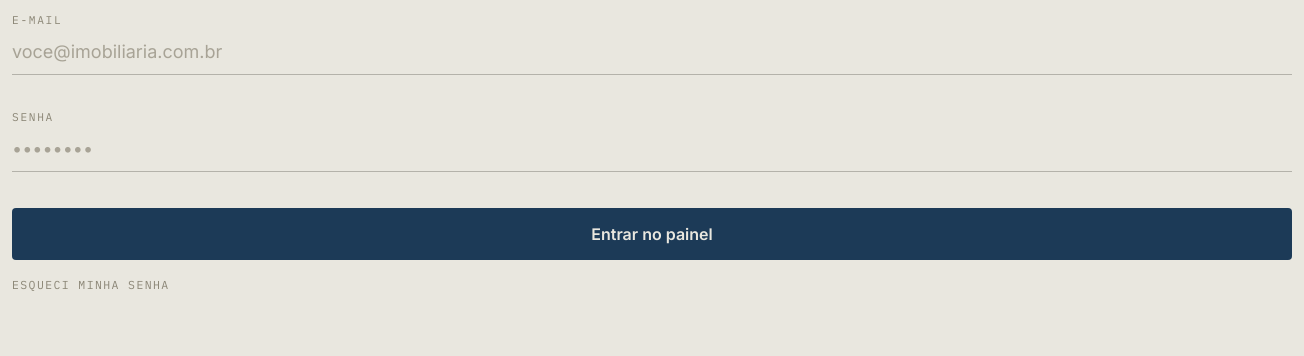
LoginForm › mostra erro e não redireciona com credenciais inválidas
Type "admin@teste.com" into the field labelled "E-mail".
click(652, 56); type("admin@teste.com")  # box [12,38,1292,75]
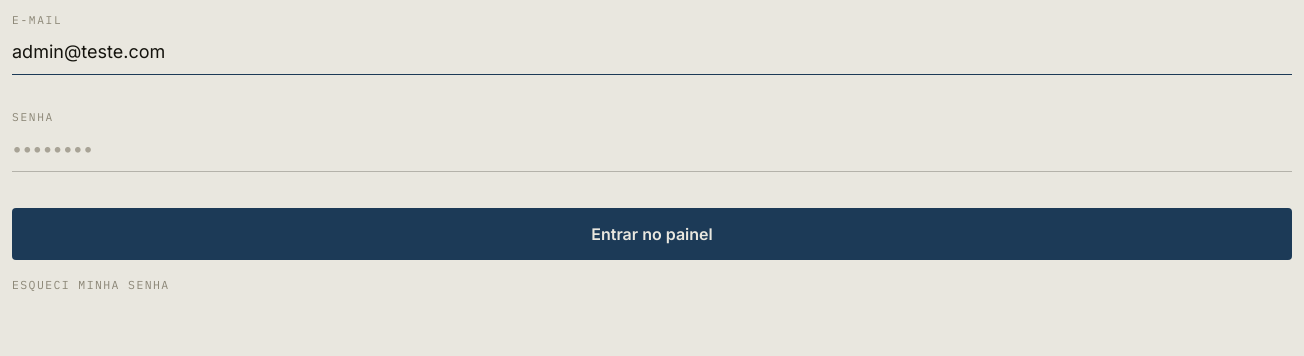
Type "senha-errada" into the password field labelled "Senha".
click(652, 154); type("senha-errada")  # box [12,135,1292,172]
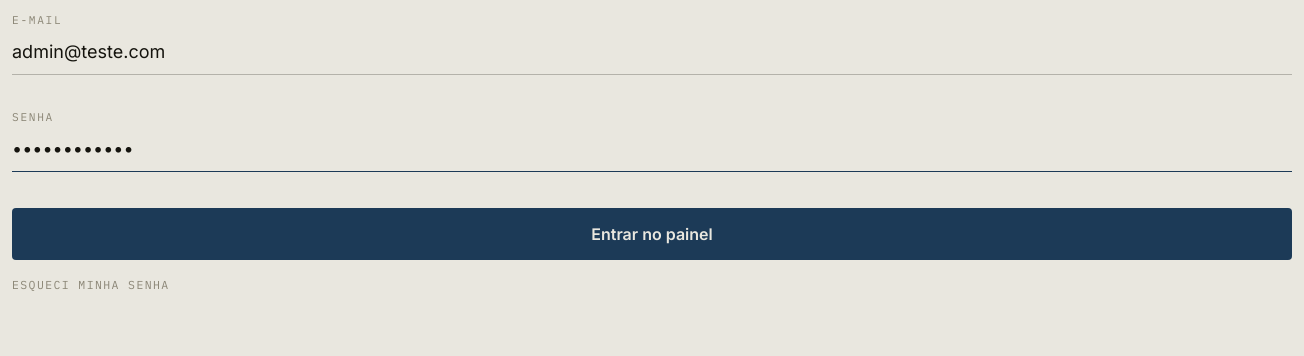
Click the button "Entrar no painel".
click(652, 234)  # box [12,208,1292,260]
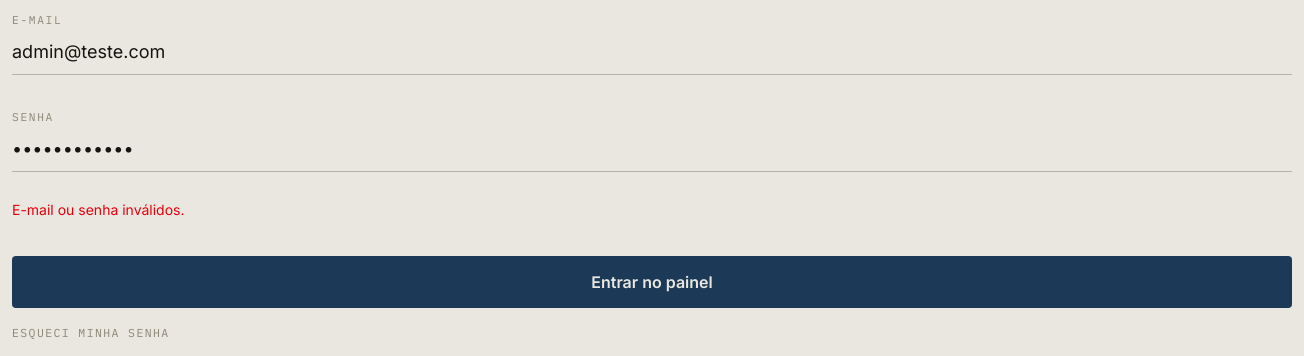
Expected: the text "E-mail ou senha inválidos." is shown, [12,201,184,218]
